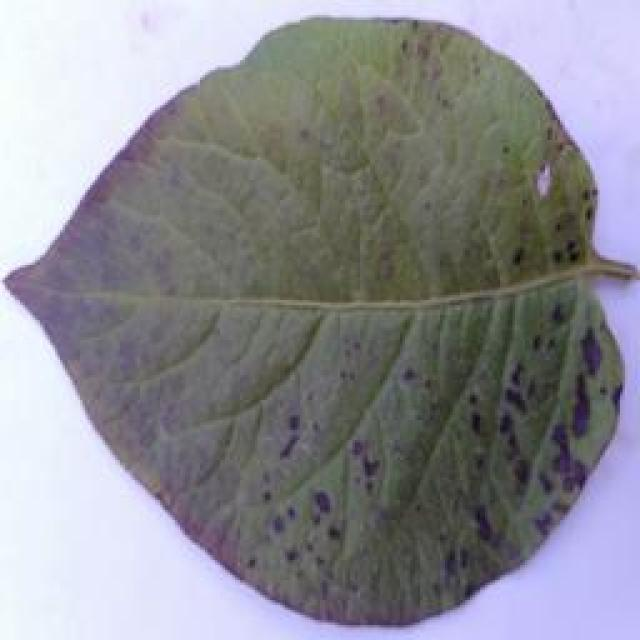Potato_Early_Blight: (4, 4, 634, 628)
